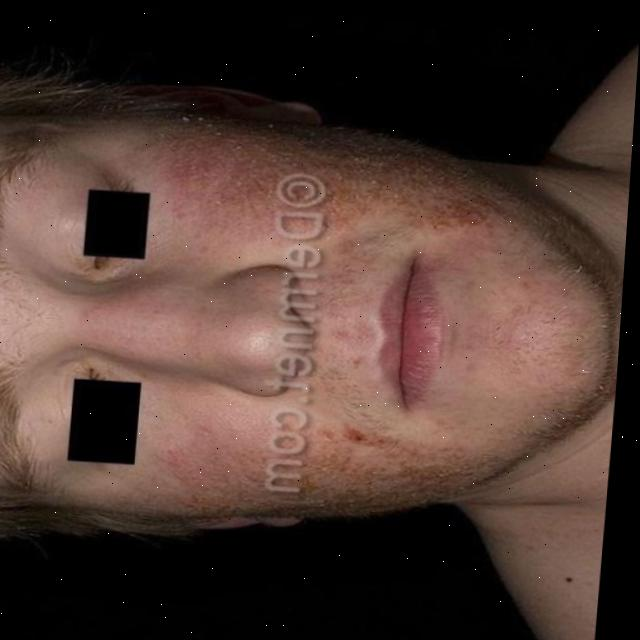Eczema: (118, 98, 498, 241), (143, 398, 487, 541)
